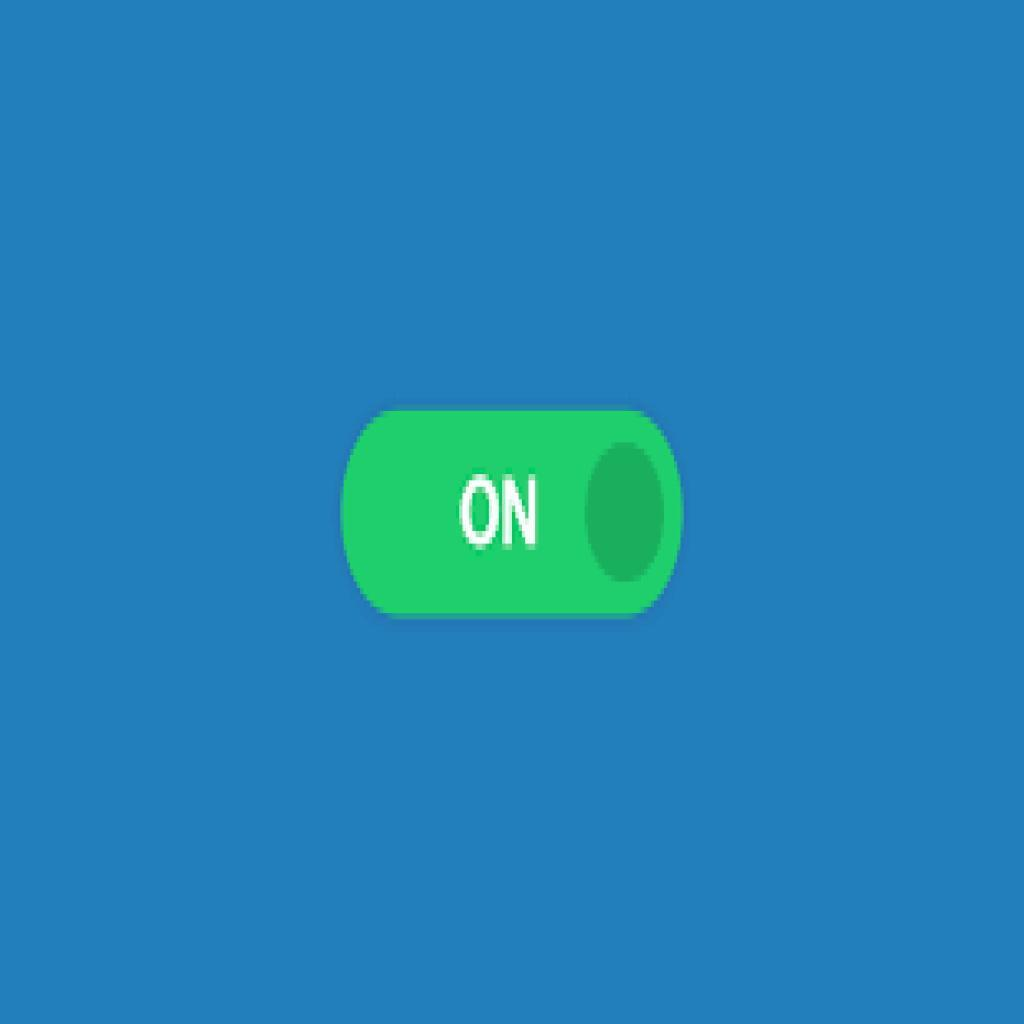switch: (341, 408, 687, 621)
